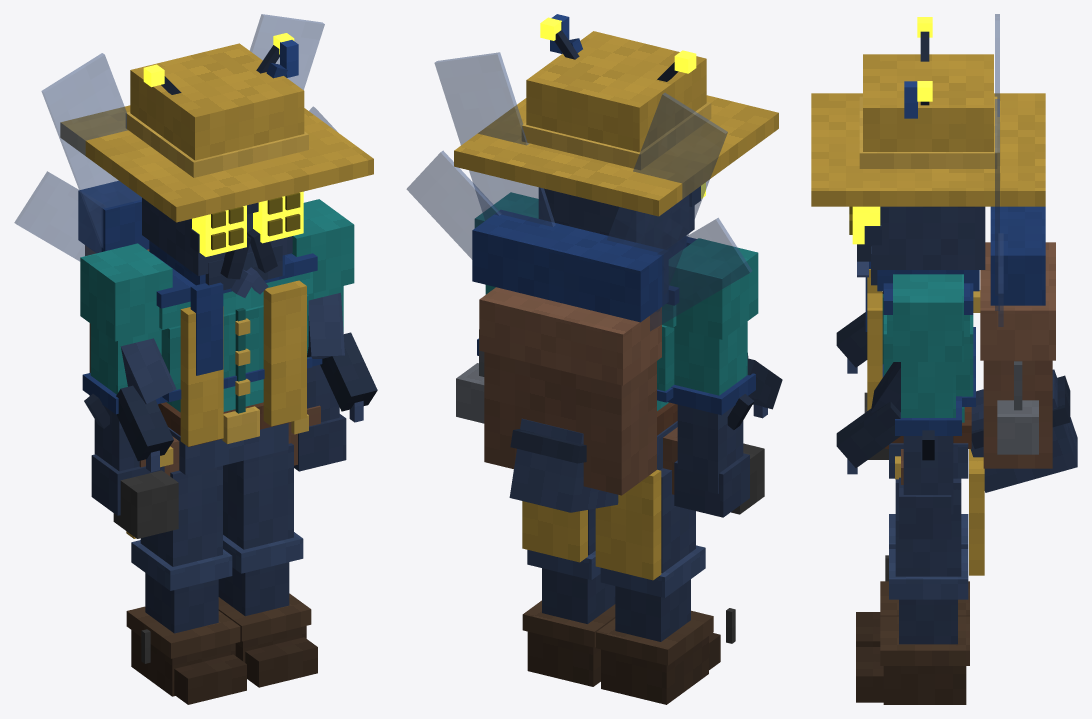
File: insectoid_marchand_v3.glb
3 views of the same model, side by side, from view 1: azimuth 30°, elevation 25°; view 2: azimuth 150°, elevation 25°; view 3: azimuth 270°, elevation 25° (orthographic). The views are drawn at different scales.
Parts seen in each view (by area): view 1: Torso, Head, LegR, LegL, ArmR, ArmL, HandR; view 2: Torso, Head, ArmR, LegR, LegL, HandR, ArmL; view 3: Head, Torso, ArmL, LegL, LegR.
Part boxes in pixels (bbox=[...]): Torso: bbox=[14, 14, 377, 538]; Head: bbox=[60, 33, 373, 297]; LegR: bbox=[126, 465, 246, 704]; LegL: bbox=[218, 443, 317, 687]; ArmR: bbox=[80, 243, 172, 515]; ArmL: bbox=[292, 199, 354, 471]; HandR: bbox=[113, 470, 178, 663]; Torso: bbox=[406, 52, 782, 580]; Head: bbox=[454, 14, 778, 258]; ArmR: bbox=[667, 238, 758, 517]; LegR: bbox=[596, 468, 720, 704]; LegL: bbox=[522, 508, 615, 686]; HandR: bbox=[726, 443, 764, 643]; ArmL: bbox=[474, 192, 538, 355]; Head: bbox=[811, 17, 1045, 291]; Torso: bbox=[836, 14, 1077, 575]; ArmL: bbox=[893, 274, 963, 539]; LegL: bbox=[856, 478, 969, 704]; LegR: bbox=[856, 514, 969, 646].
Size of the model in its own units: 1.12 by 1.98 by 0.7727.
Materials: 34 (34 with a texture image).
